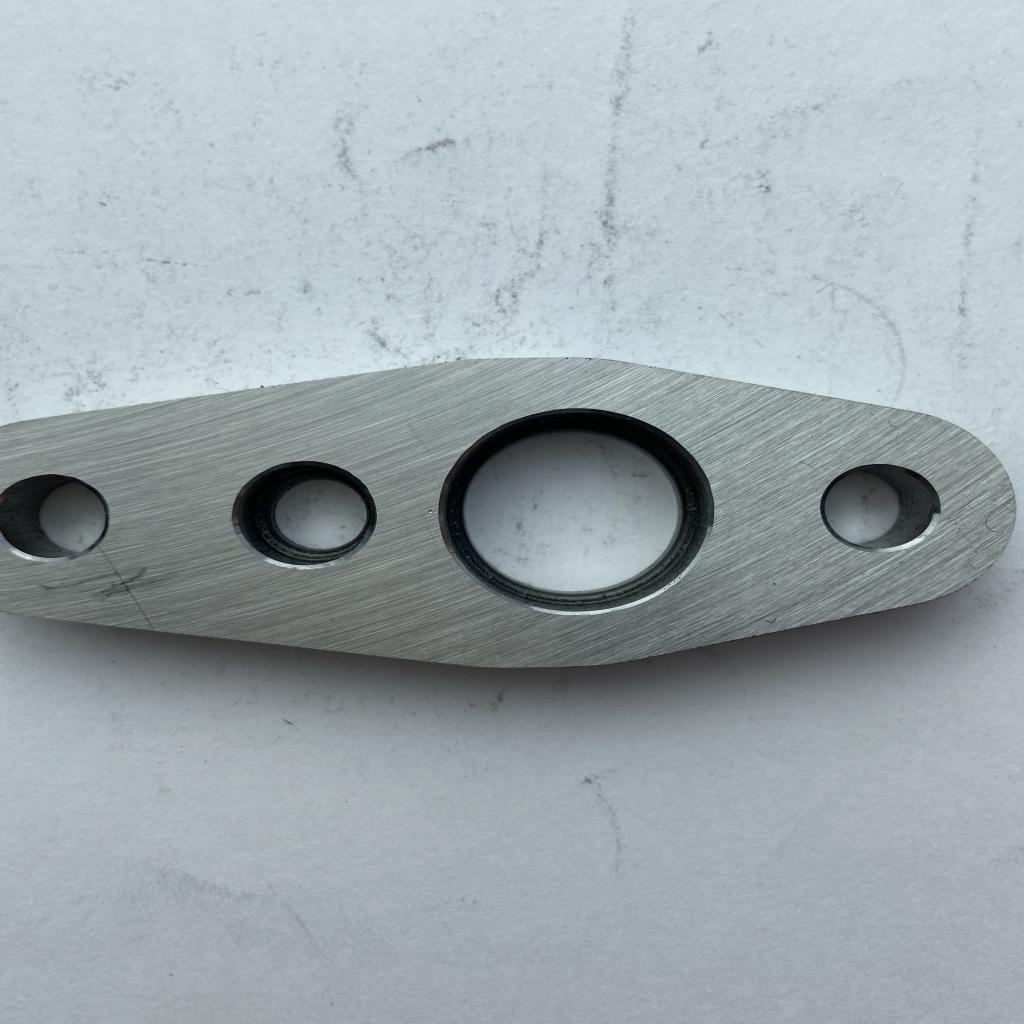chap: (422, 506, 437, 518), (762, 616, 778, 627)
lines: (98, 550, 160, 625), (977, 508, 1006, 538)
